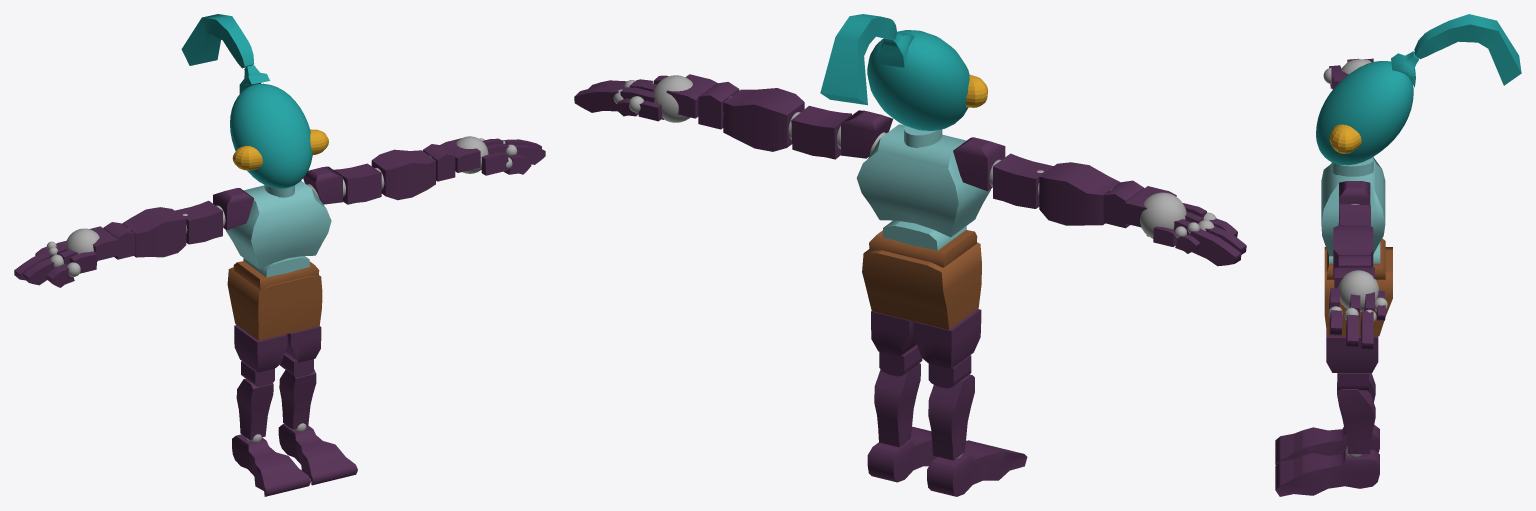
The model's file is Abe2Formiximo.fbx.
3 renders of one model, left to right at view 1: azimuth 30°, elevation 25°; view 2: azimuth 150°, elevation 25°; view 3: azimuth 270°, elevation 25°, orthographic. The views are drawn at different scales.
Parts seen in each view (by area): view 1: Head1, Torso, Hips, RightFoot, LeftFoot, LeftForeArm, RForeArm, RightCalve, LeftCalve, RightQuad, RArm, LeftBicep (+15 smaller); view 2: Head1, Torso, Hips, LeftForeArm, RForeArm, RightFoot, RightCalve, LeftCalve, RightQuad, LeftFoot, LeftBicep, RArm (+16 smaller); view 3: Head1, LeftFoot, Torso, RightFoot, LeftCalve, LeftQuad, Hips, LeftForeArm, pSphere15, Leftshoulder, LefTEyeBall, LeftBicep (+8 smaller).
Part boxes in pixels (box(x1,y1,x2,y2)): Head1: box(181, 14, 312, 188); Torso: box(226, 181, 331, 269); Hips: box(227, 267, 322, 340); RightFoot: box(232, 434, 310, 496); LeftFoot: box(278, 424, 357, 485); LeftForeArm: box(371, 149, 435, 200); RForeArm: box(122, 207, 186, 257); RightCalve: box(236, 378, 273, 440); LeftCalve: box(279, 369, 316, 429); RightQuad: box(234, 325, 287, 372); RArm: box(175, 200, 222, 244); LeftBicep: box(333, 163, 381, 204); Head1: box(820, 14, 969, 130); Torso: box(856, 124, 990, 237); Hips: box(862, 242, 981, 329); LeftForeArm: box(723, 88, 804, 151); RForeArm: box(1039, 162, 1120, 225); RightFoot: box(927, 440, 1027, 496); RightCalve: box(928, 374, 974, 460); LeftCalve: box(874, 363, 920, 447); RightQuad: box(913, 309, 981, 368); LeftFoot: box(867, 426, 966, 482); LeftBicep: box(791, 105, 851, 159); RArm: box(993, 153, 1053, 208); Head1: box(1316, 14, 1521, 165); LeftFoot: box(1275, 449, 1379, 496); Torso: box(1321, 157, 1385, 256); RightFoot: box(1275, 425, 1379, 464); LeftCalve: box(1337, 382, 1375, 454); LeftQuad: box(1326, 330, 1378, 372); Hips: box(1324, 247, 1392, 336); LeftForeArm: box(1333, 225, 1373, 277); pSphere15: box(1338, 270, 1379, 311); Leftshoulder: box(1339, 181, 1370, 215); LefTEyeBall: box(1329, 124, 1361, 153); LeftBicep: box(1338, 204, 1370, 225).
Bounding box in the file's own units: 9.08 × 6.78 × 3.33.
